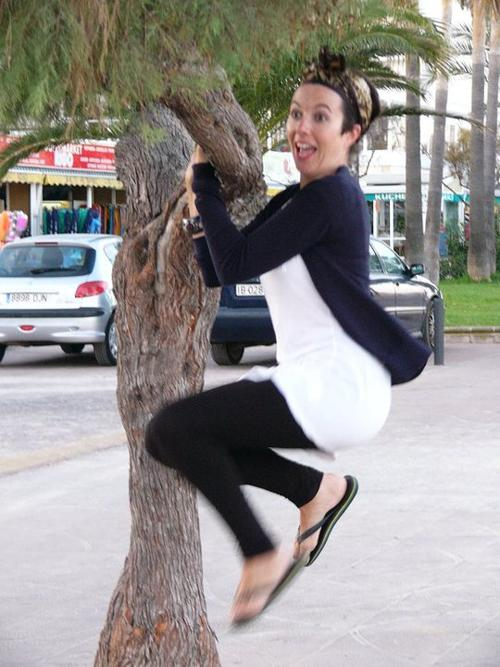person: (144, 68, 395, 616)
